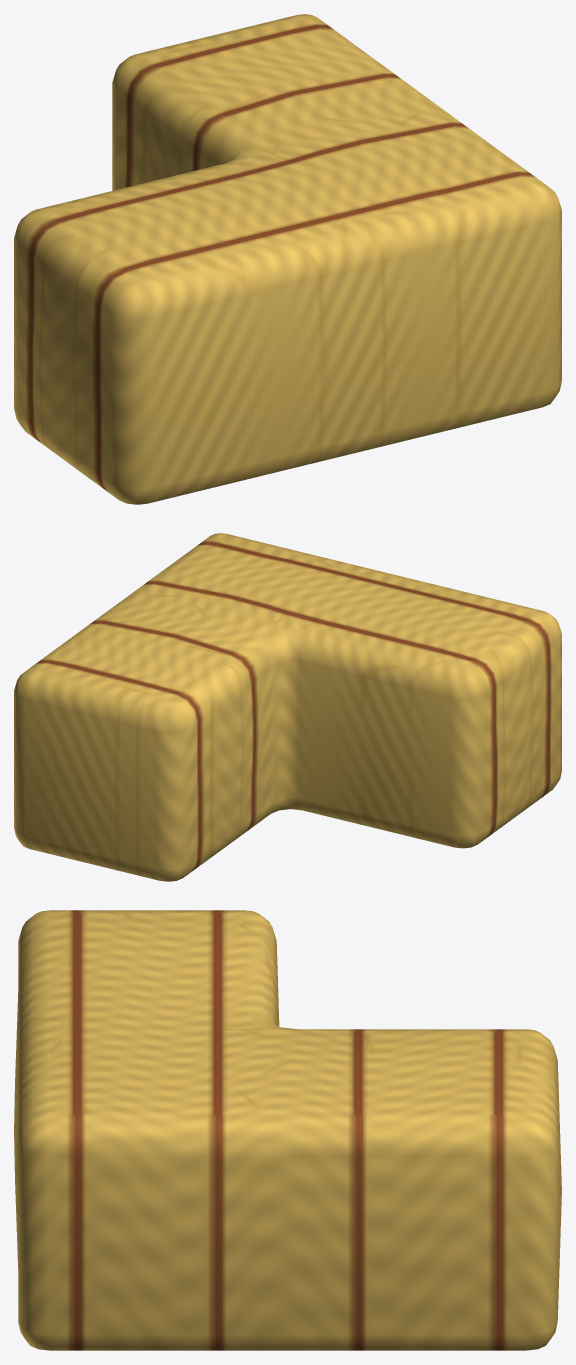
File: HayBale_Corner.fbx
3 renders of one model, top to bottom at view 1: azimuth 30°, elevation 25°; view 2: azimuth 150°, elevation 25°; view 3: azimuth 270°, elevation 25°, orthographic. The views are drawn at different scales.
Parts seen in each view (by area): view 1: HayBale_Corner; view 2: HayBale_Corner; view 3: HayBale_Corner.
Boxes of the visible parts, left/top/right/bottom form: HayBale_Corner: left=14, top=14, right=561, bottom=504; HayBale_Corner: left=14, top=533, right=561, bottom=881; HayBale_Corner: left=14, top=910, right=561, bottom=1350.
Bounding box in the file's own units: 1.95 × 0.9078 × 1.95.
Materials: 1 (1 with a texture image).
